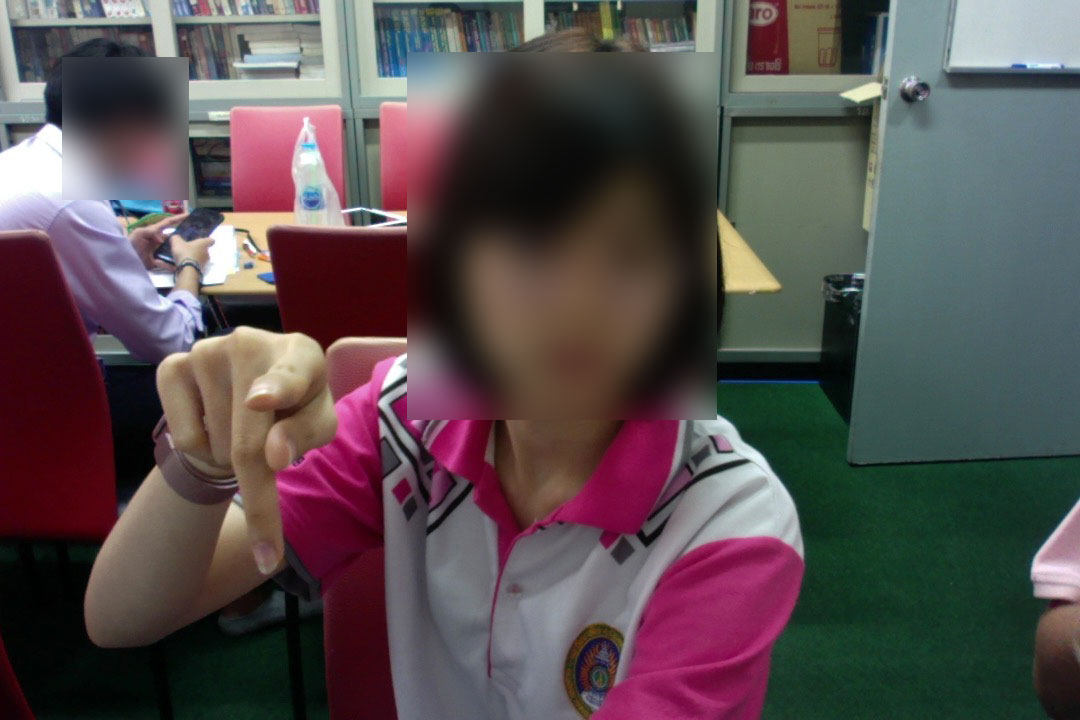por: (149, 317, 349, 582)
